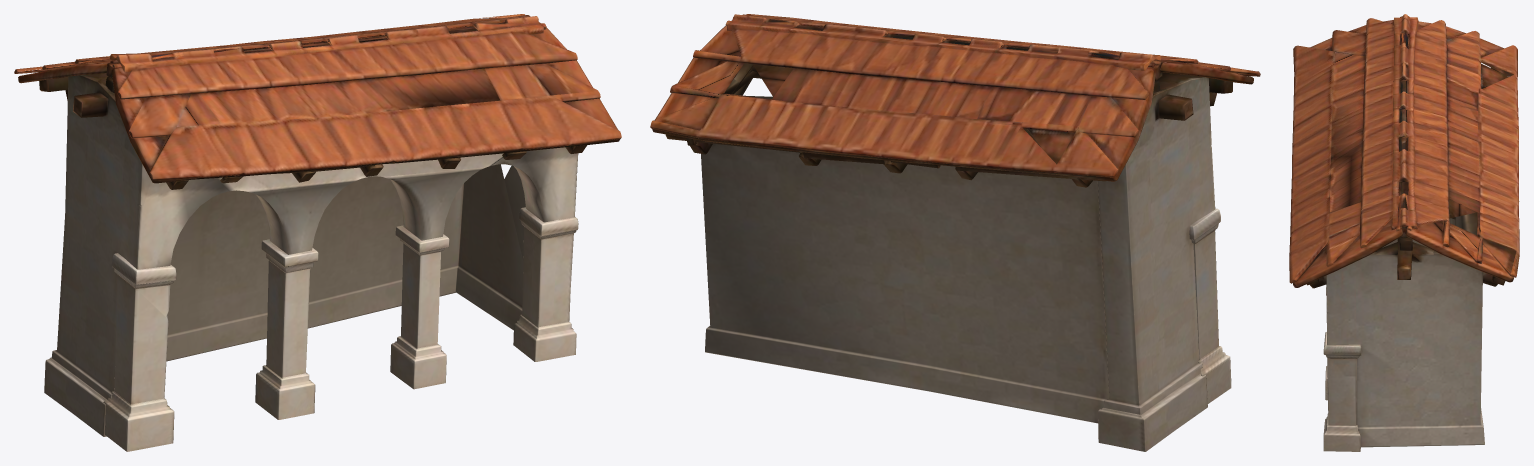
File: act1-a11-1-cloister-bay.glb
3 views of the same model, side by side, from view 1: azimuth 30°, elevation 25°; view 2: azimuth 150°, elevation 25°; view 3: azimuth 270°, elevation 25° (orthographic). The views are drawn at different scales.
Visible parts, largest first — view 1: act1-a11-1-cloister-bay; view 2: act1-a11-1-cloister-bay; view 3: act1-a11-1-cloister-bay.
Part boxes in pixels (x1,y1,x2,y2): act1-a11-1-cloister-bay: [14, 14, 621, 451]; act1-a11-1-cloister-bay: [650, 14, 1260, 451]; act1-a11-1-cloister-bay: [1289, 14, 1519, 451].
Bounding box in the file's own units: 5.4 × 3.82 × 2.82.
Materials: 1 (1 with a texture image).
